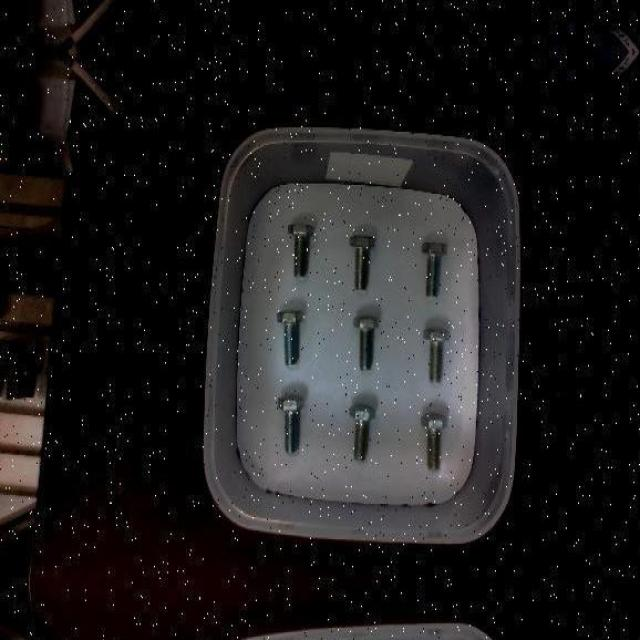screw: (348, 403, 375, 461), (277, 392, 303, 452), (423, 326, 450, 382), (288, 222, 314, 278), (349, 234, 375, 290), (354, 314, 380, 370), (421, 411, 446, 468), (422, 242, 447, 298), (278, 310, 303, 366)
